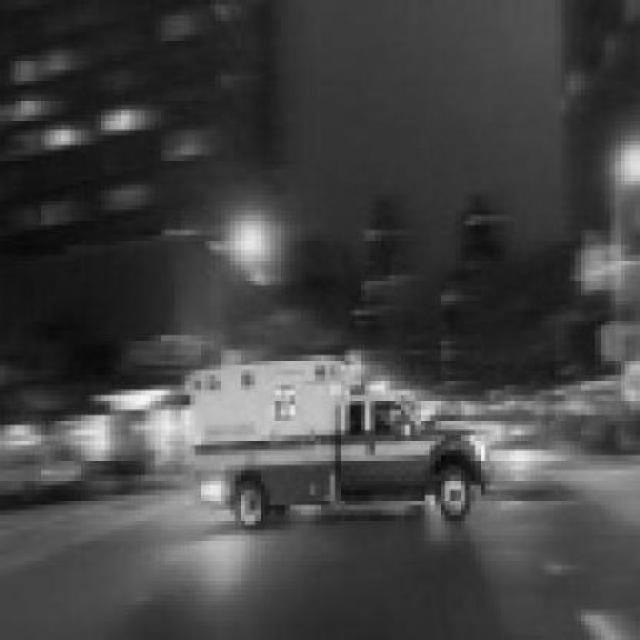Ambulance: (191, 362, 495, 530)
